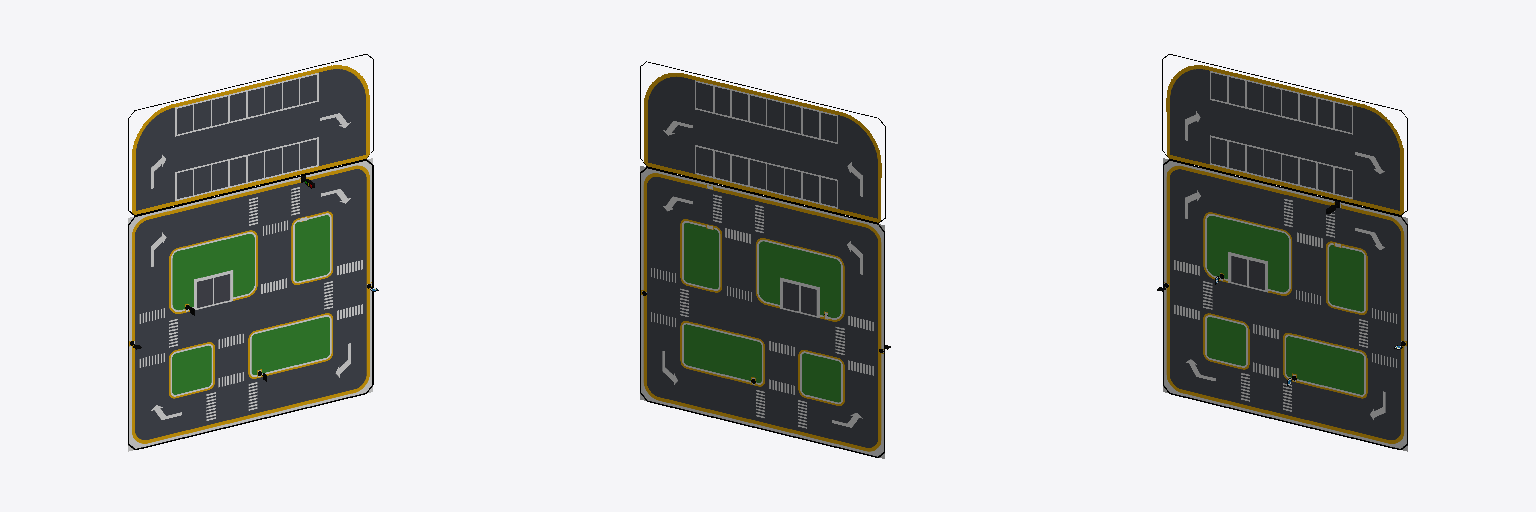
3 views of the same model, side by side, from view 1: azimuth 30°, elevation 25°; view 2: azimuth 150°, elevation 25°; view 3: azimuth 330°, elevation 25° (orthographic).
Parts seen in each view (by area): view 1: Plane, Plane.001; view 2: Plane, Plane.001; view 3: Plane, Plane.001.
Boxes of the visible parts, x1=… form: Plane: x1=128, y1=158, x2=373, y2=451; Plane.001: x1=128, y1=54, x2=373, y2=215; Plane: x1=640, y1=166, x2=884, y2=458; Plane.001: x1=640, y1=61, x2=885, y2=223; Plane: x1=1163, y1=158, x2=1407, y2=451; Plane.001: x1=1162, y1=54, x2=1407, y2=215.
Bounding box in the file's own units: 3.26 × 4.32 × 0.241.
Materials: 15 (5 with a texture image).